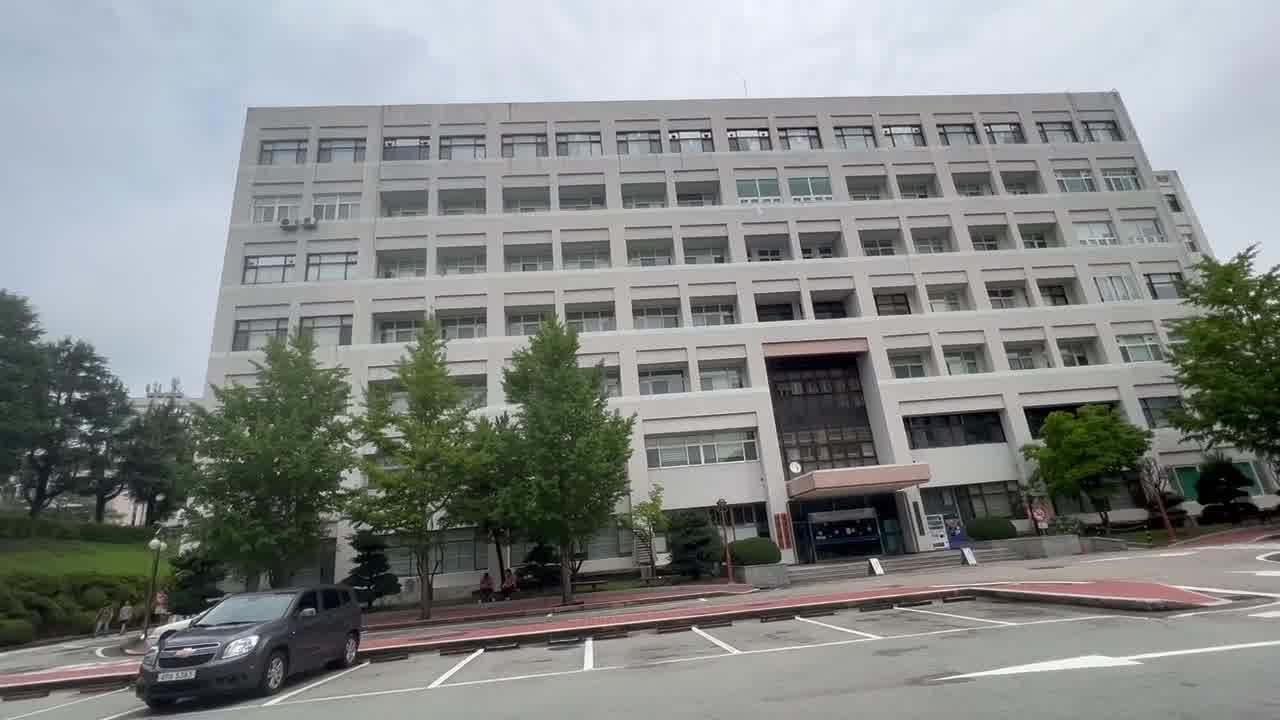building: (624, 109, 1022, 563)
